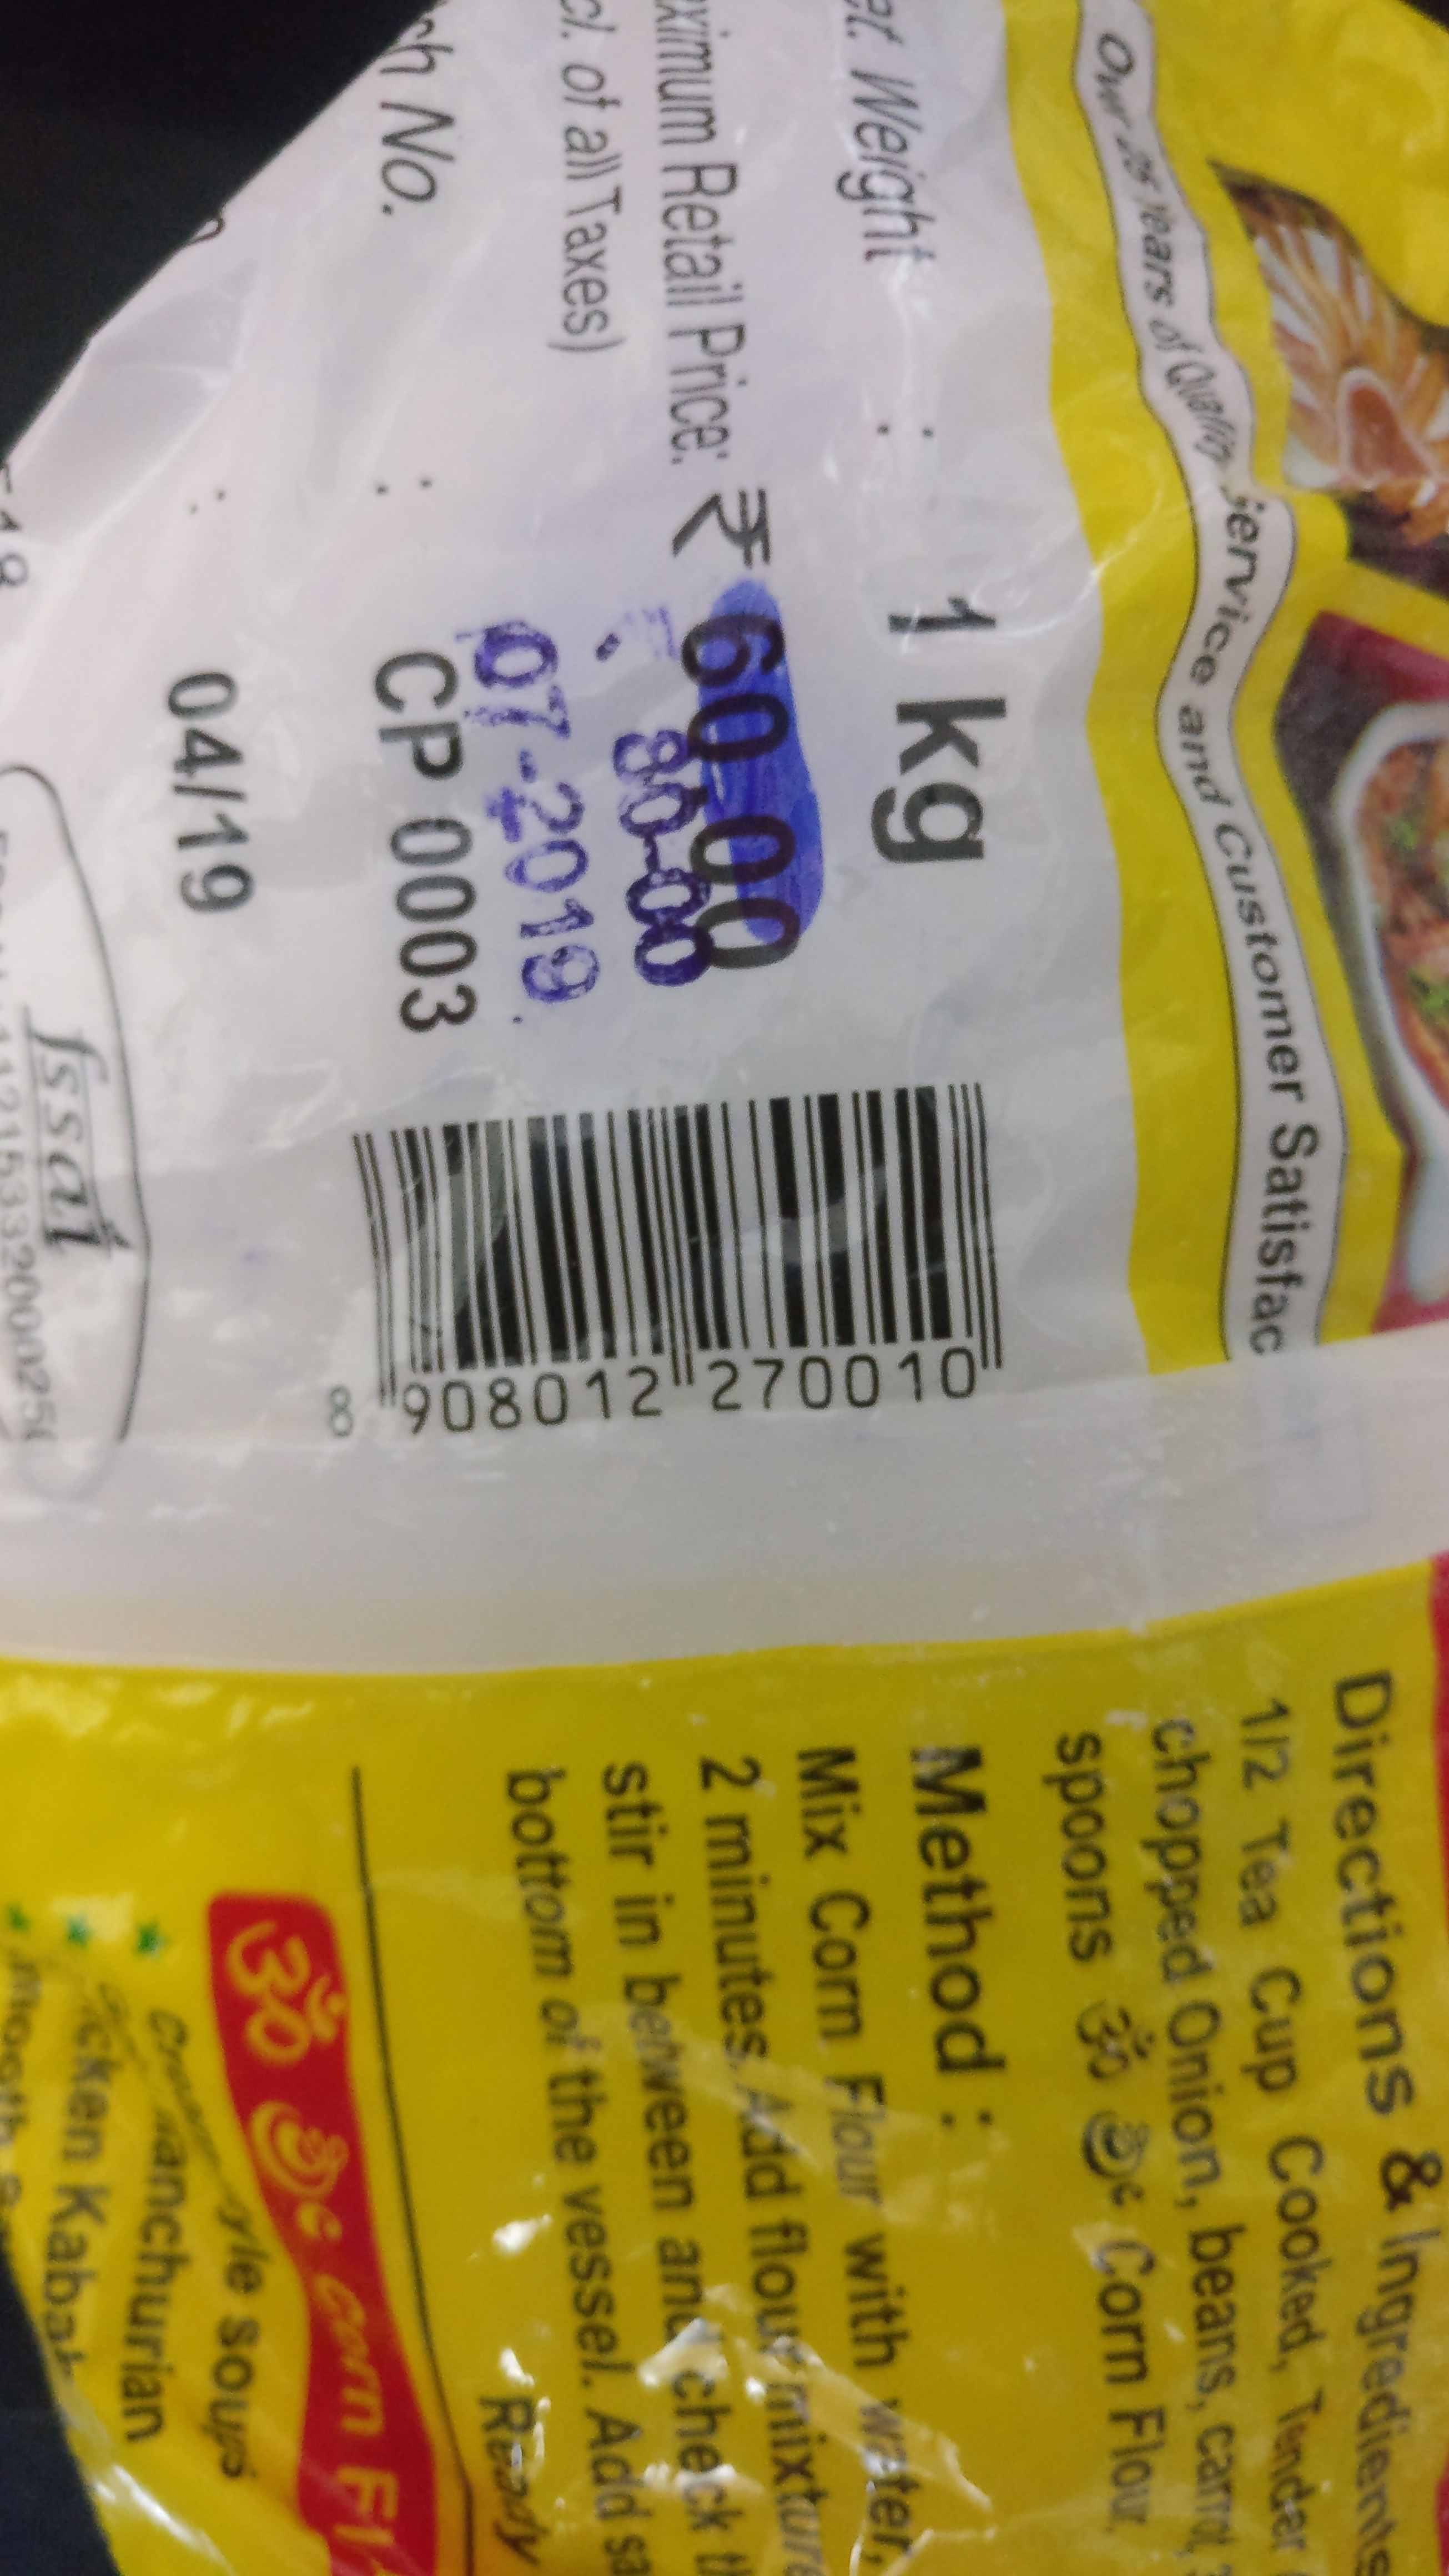barcode: (295, 1099, 1047, 1438)
